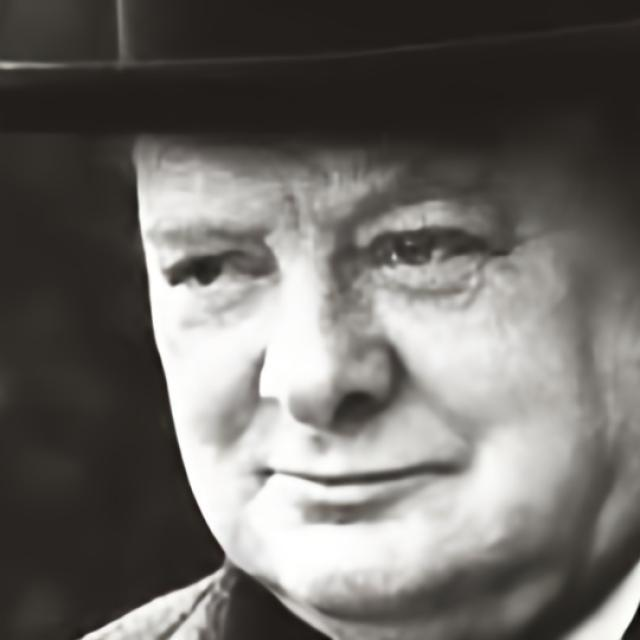content: (132, 136, 640, 639)
